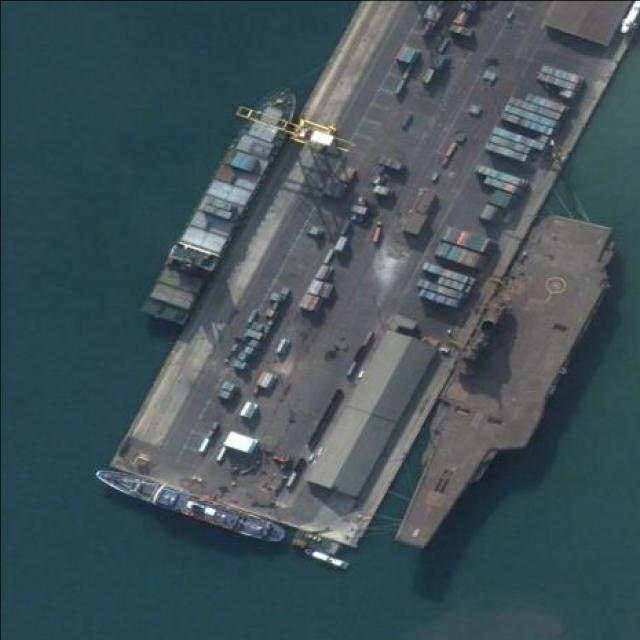Aircraft Carrier: (373, 191, 633, 576)
Container Ship: (139, 78, 306, 328)
